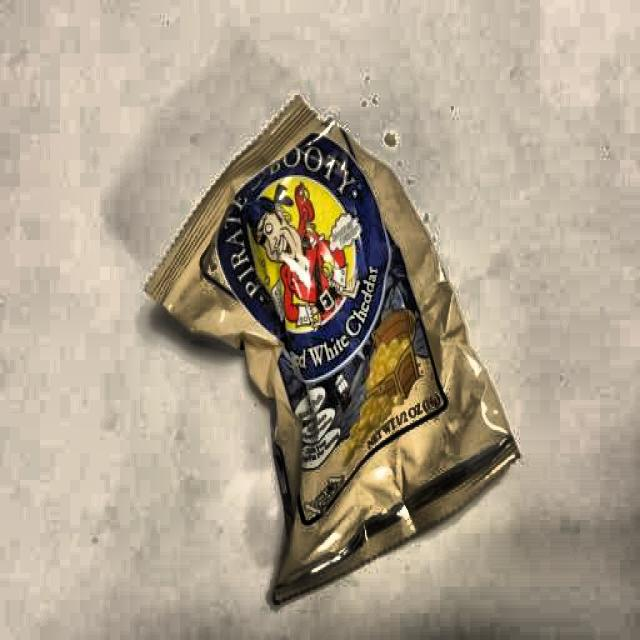trash: (166, 101, 507, 566)
